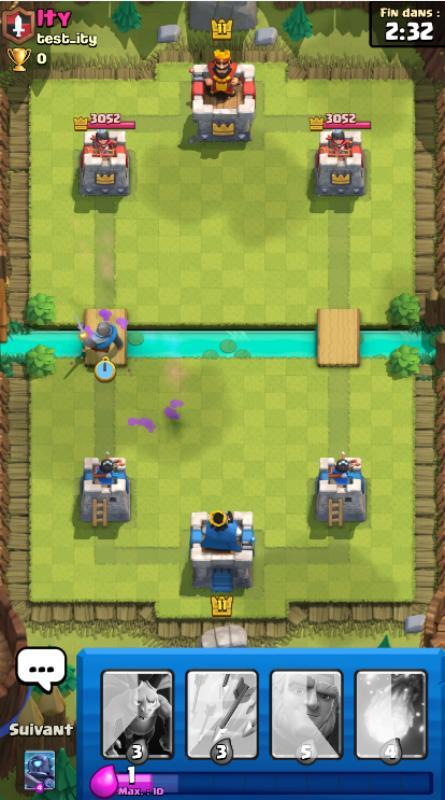chevalier: (75, 314, 124, 354)
